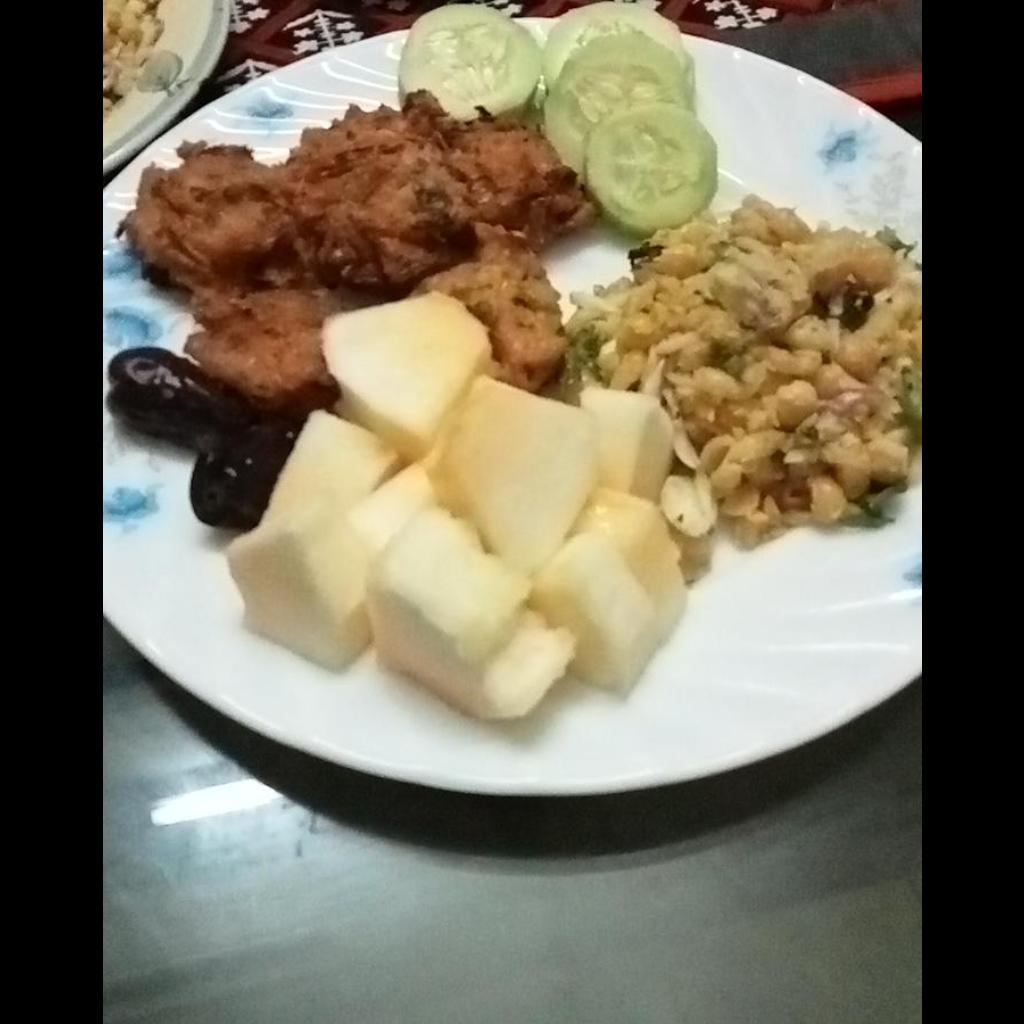apple: (227, 295, 683, 725)
chola: (564, 200, 920, 529)
cucumber: (398, 4, 717, 228)
grapes: (112, 341, 286, 520)
peyaju: (123, 91, 588, 393)
